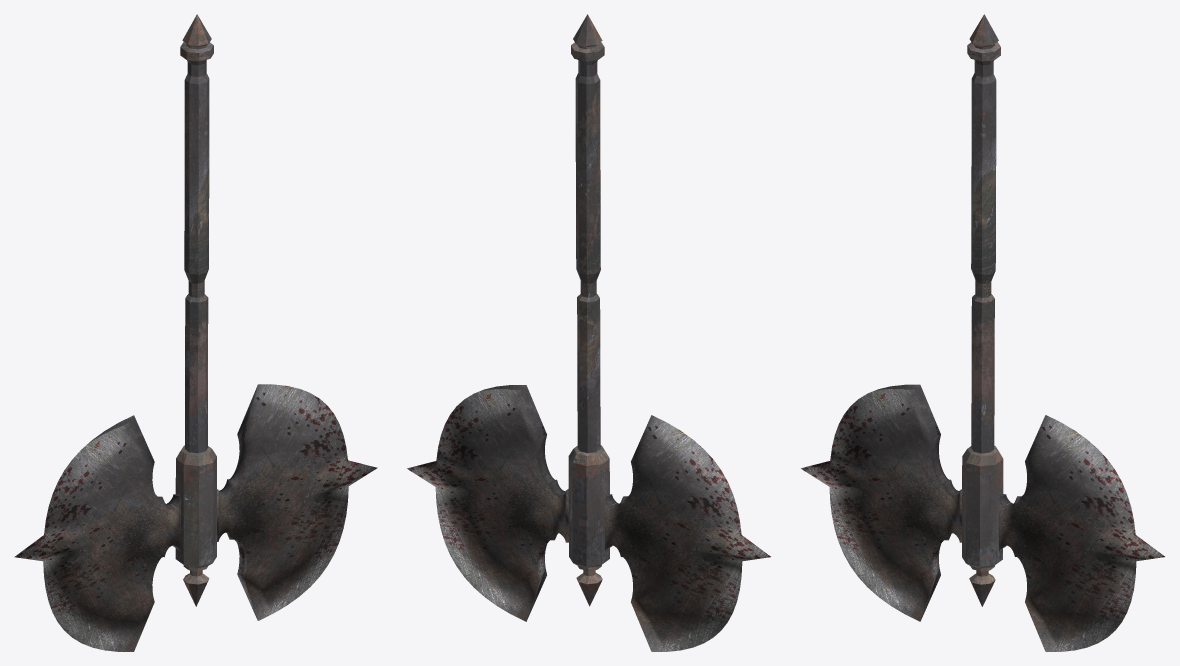
Rendered from DOUBLE SIDED AXE2.fbx.
3 renders of one model, left to right at view 1: azimuth 30°, elevation 25°; view 2: azimuth 150°, elevation 25°; view 3: azimuth 330°, elevation 25°, orthographic.
Visible parts, largest first — view 1: BezierCurve.000, Circle; view 2: BezierCurve.000, Circle; view 3: BezierCurve.000, Circle.
Part boxes in pixels (x1,y1,x2,y2): BezierCurve.000: (14, 384, 377, 651); Circle: (175, 14, 216, 606); BezierCurve.000: (407, 385, 770, 651); Circle: (568, 14, 609, 606); BezierCurve.000: (801, 384, 1164, 651); Circle: (962, 14, 1003, 606).
Size of the model in its own units: 2573 by 4200 by 236.
2 materials, 2 textured.
